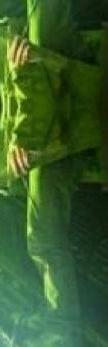hard-hat: (0, 265, 26, 319)
ppe-suit: (0, 6, 104, 333)
